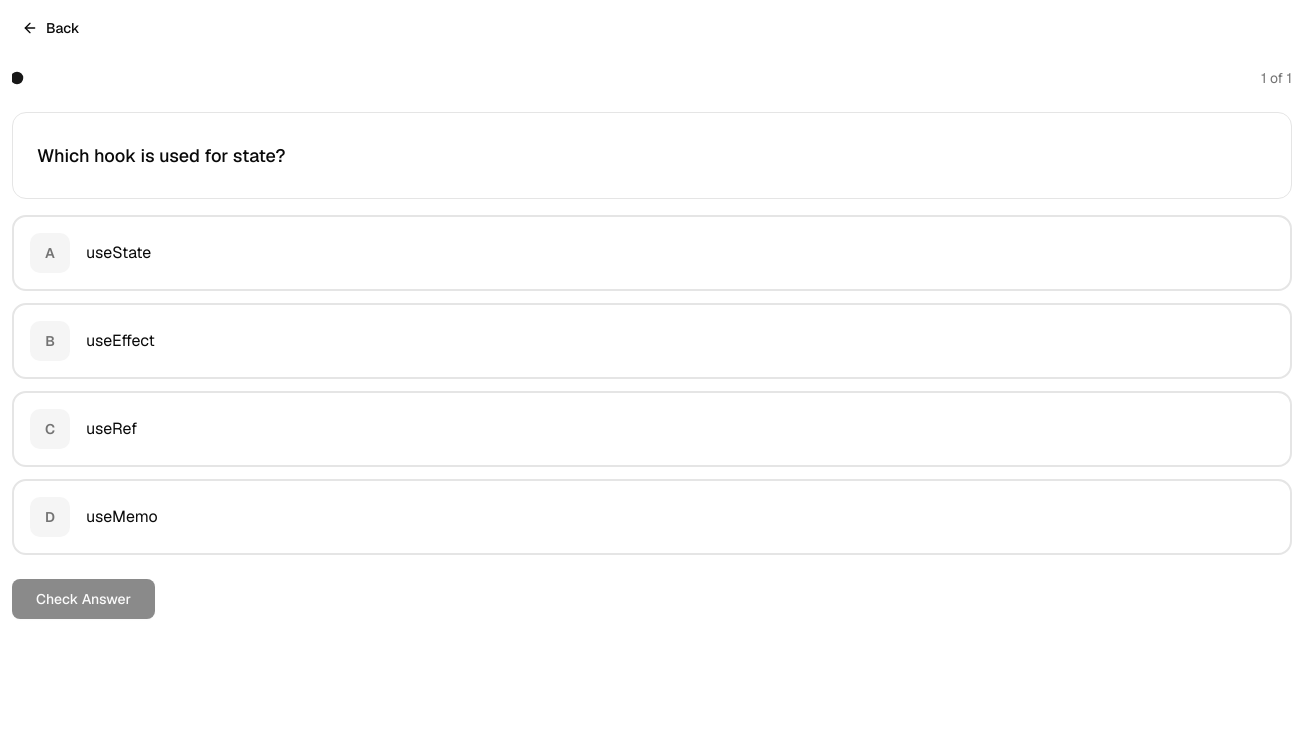
Test: MixedInterface › question item › shows correct result after answering correctly
Click the text "useState" at (119, 253), box [86,242,151,263]
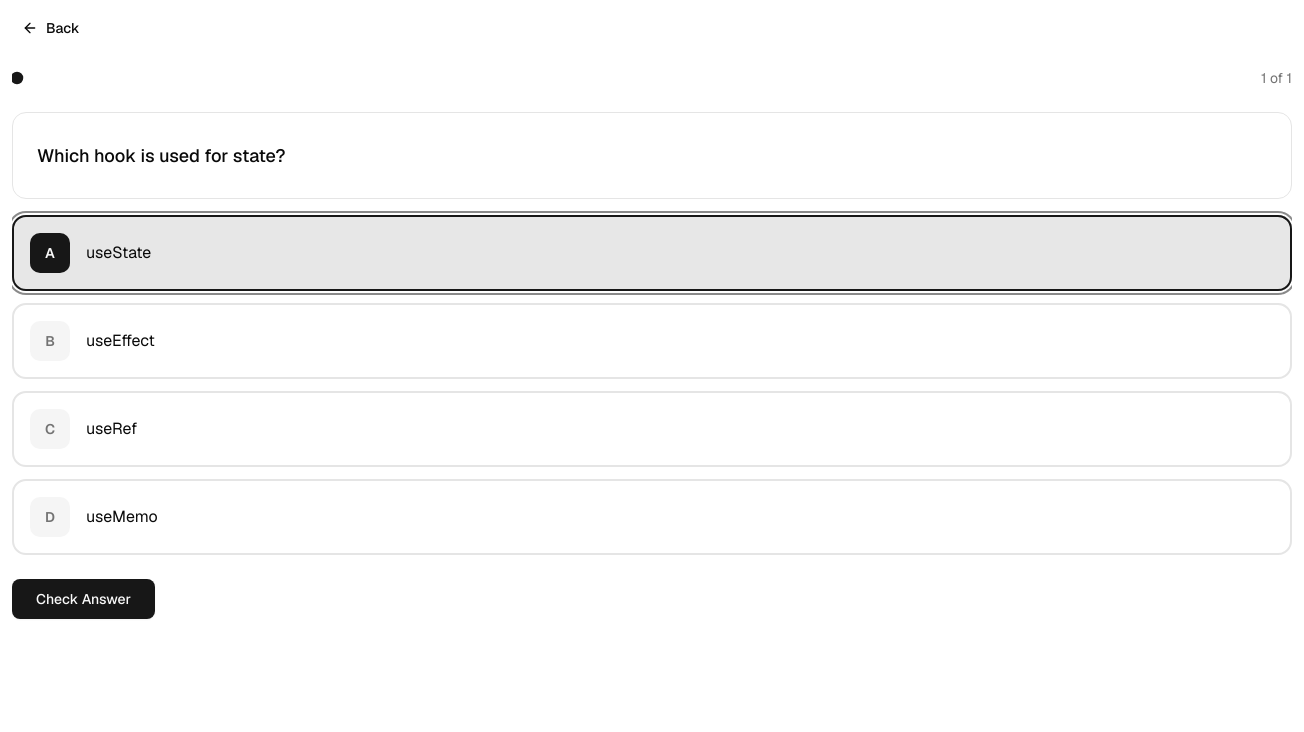
Click the button "Check Answer" at (83, 599), box [12,579,155,619]
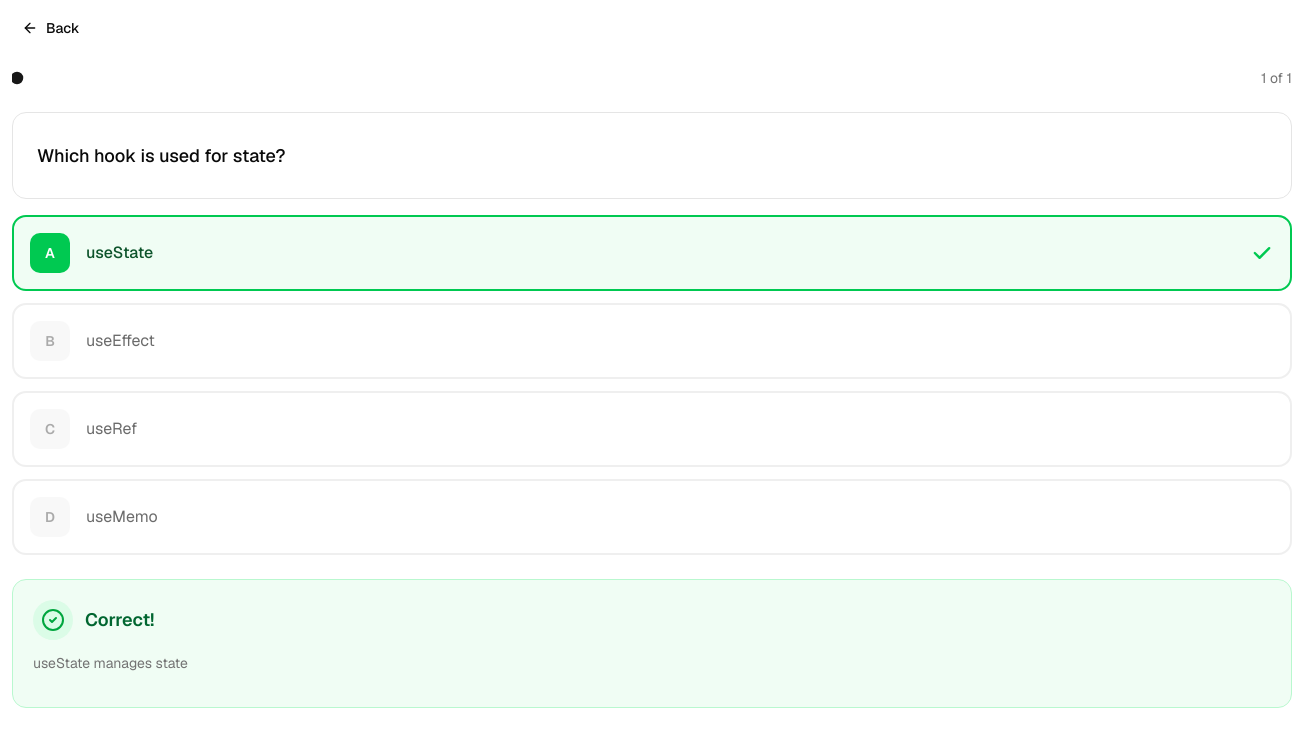
Expected: the text "useState manages state" is shown, [33,654,188,672]
